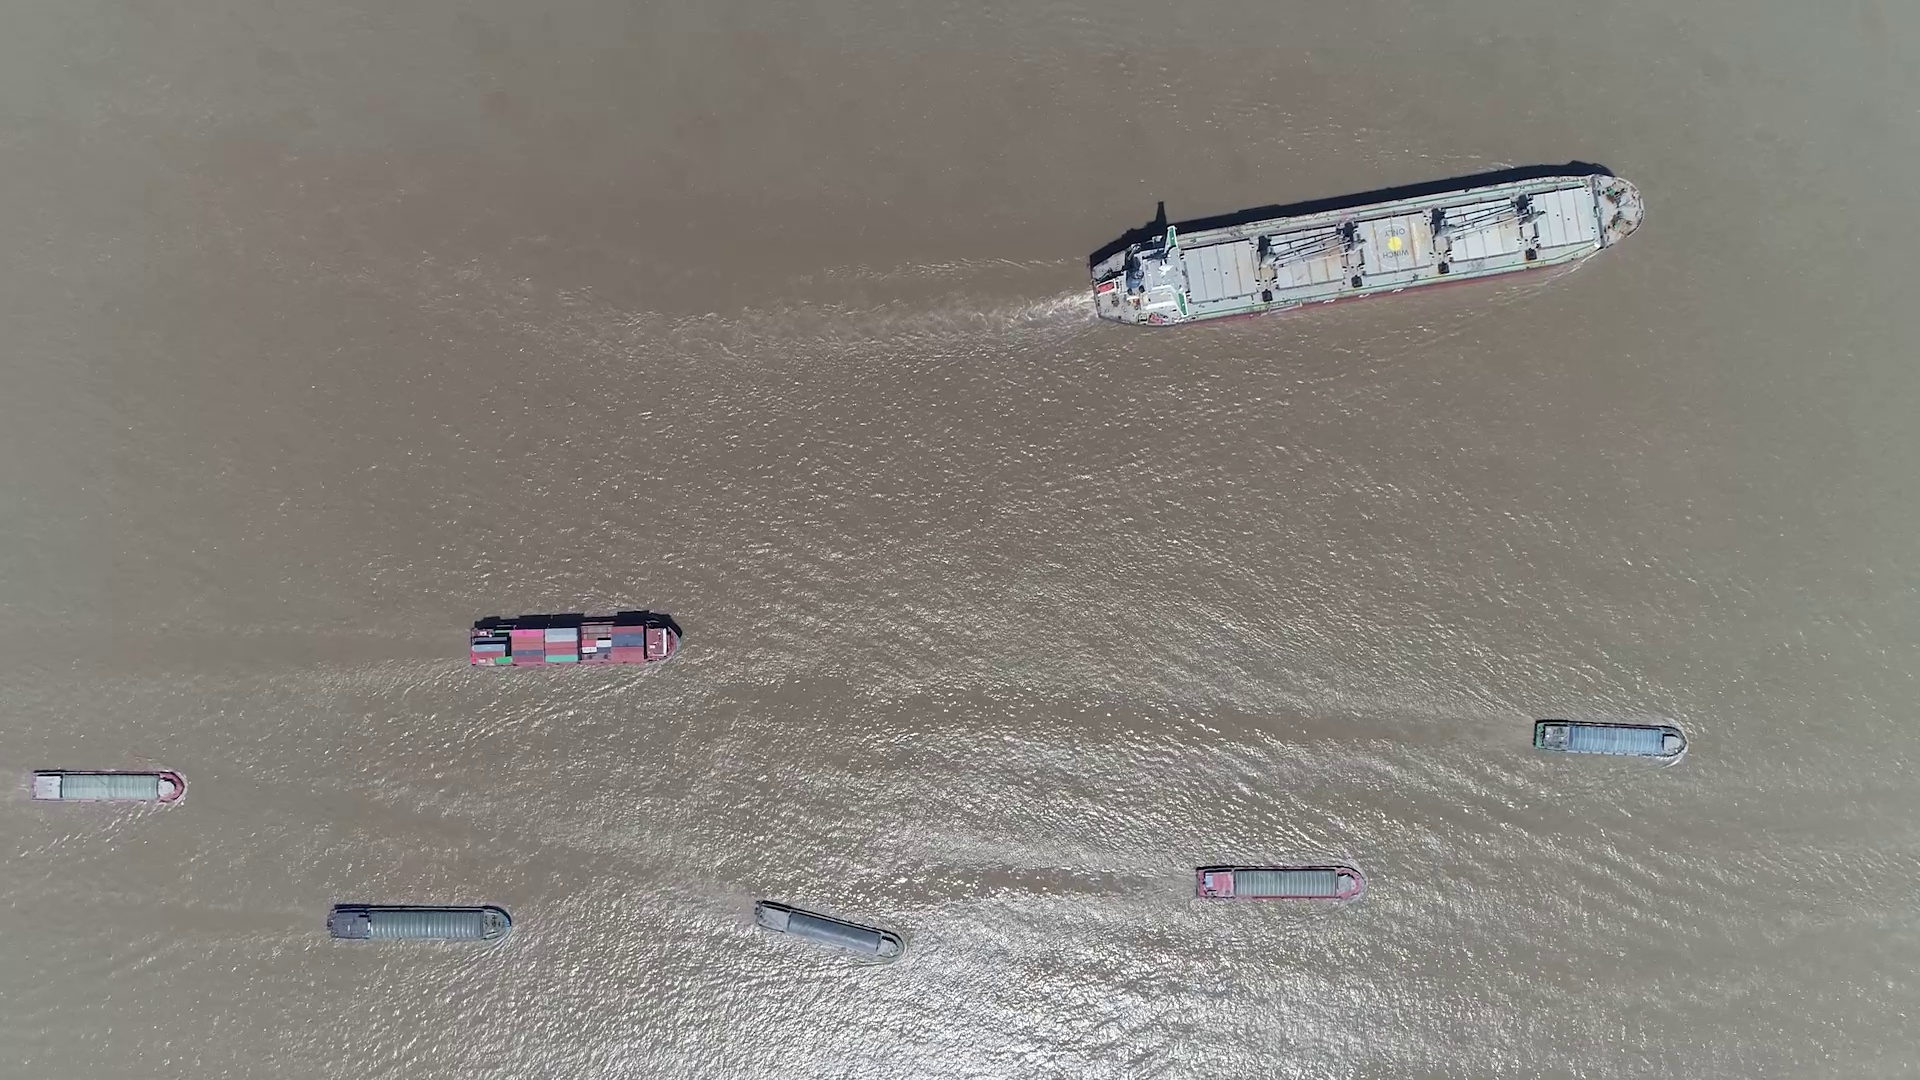ship: (1087, 174, 1647, 324), (468, 616, 679, 669), (753, 898, 903, 957), (327, 905, 513, 942), (1534, 717, 1687, 758), (1196, 866, 1364, 902), (28, 770, 183, 804)
